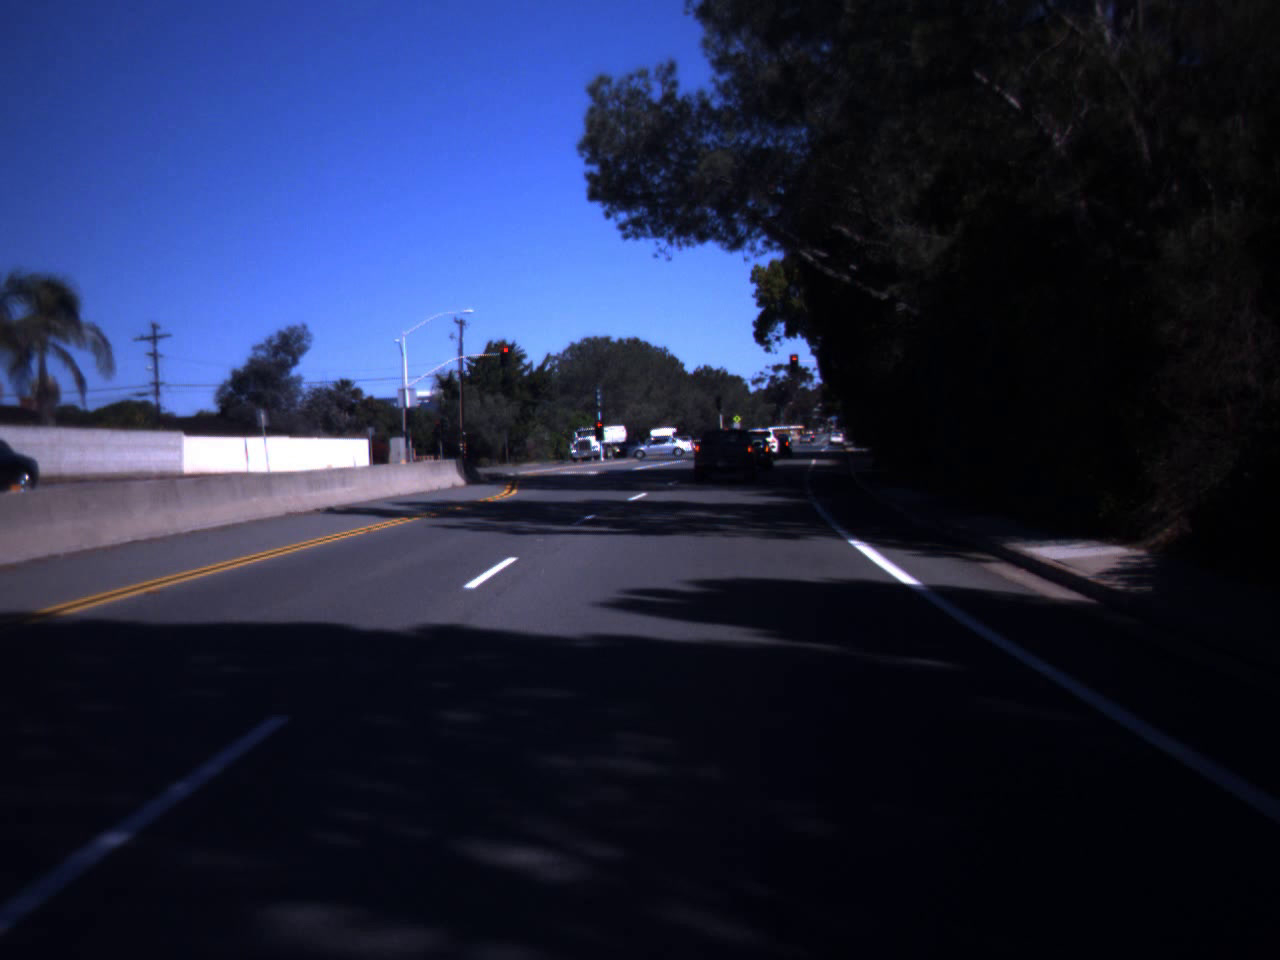stop: (500, 346, 512, 364)
